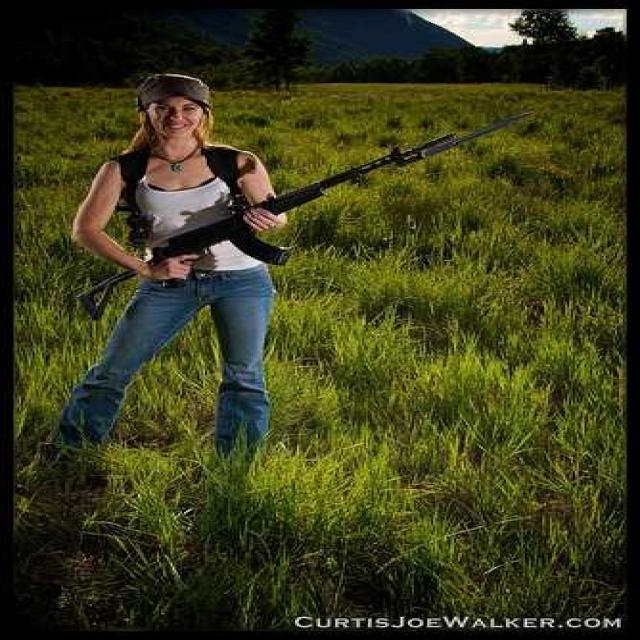Rifle: (86, 108, 539, 326)
